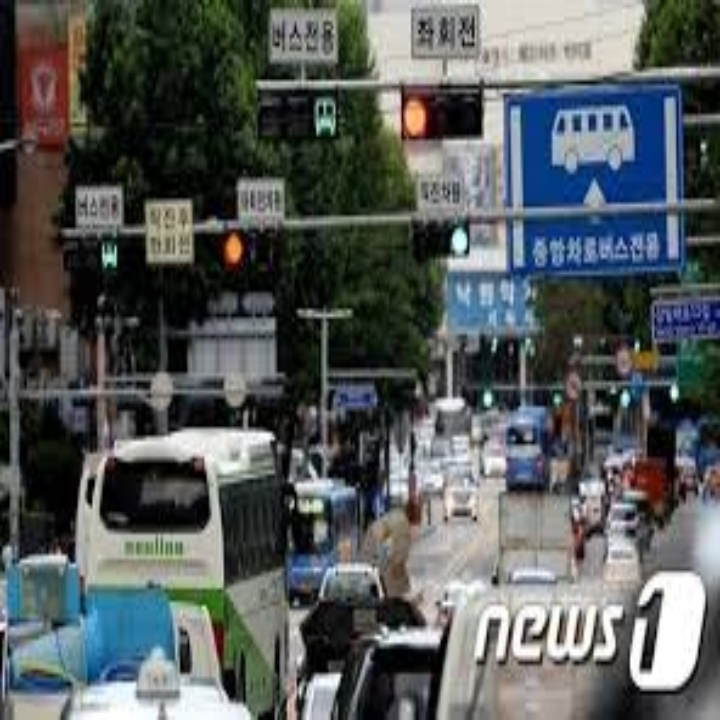bus: (534, 96, 647, 175)
